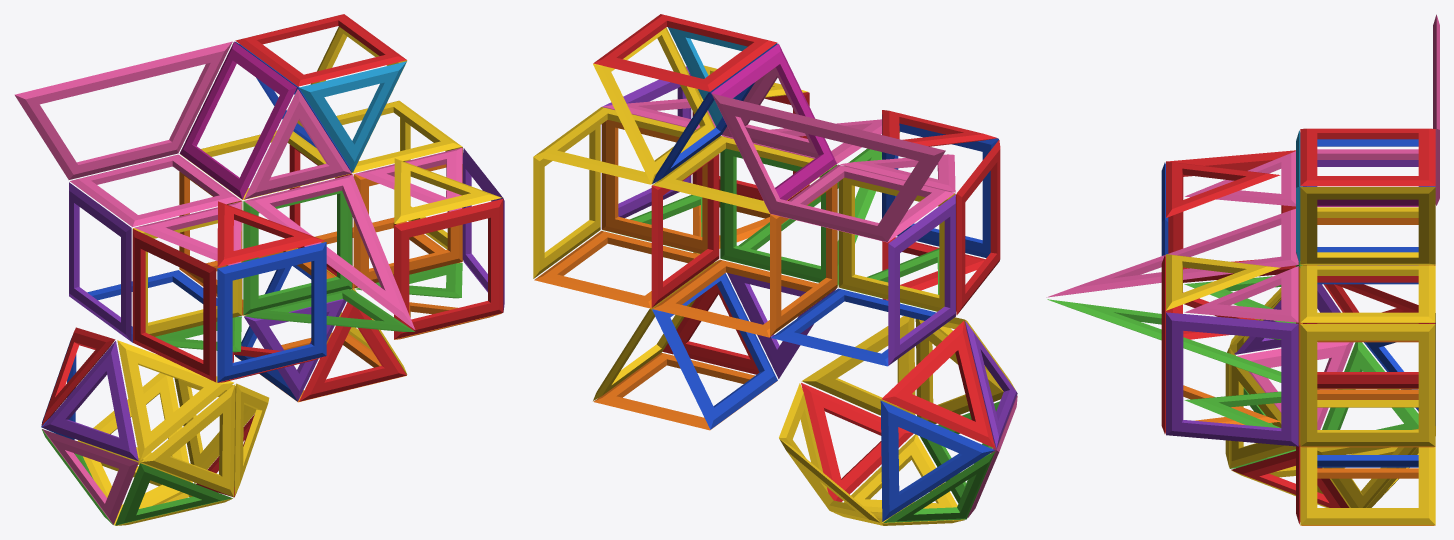
The model's file is tile_starship_frames.obj.
3 views of the same model, side by side, from view 1: azimuth 30°, elevation 25°; view 2: azimuth 150°, elevation 25°; view 3: azimuth 270°, elevation 25° (orthographic). The views are drawn at different scales.
Visible parts, largest first — view 1: outrigger_wing.wing_trapezoid, nose_pod.nose_pod_roof, tail_pod.tail_pod_roof, spire.spire_wing, nose_pod.nose_pod_end, outrigger_wing.wing_infill_wall, dome.dome_12, dome.dome_11, outrigger_wing.wing_prism_roof, dome.dome_16, outrigger_wing.wing_infill_roof, spine.nose_cube_front (+34 smaller); view 2: outrigger_wing.wing_trapezoid, dome.dome_04, dome.dome_07, spine.nose_cube_front, outrigger_wing.wing_prism_face, outrigger_dome.dome_prism_wall_nose, dome.dome_14, spine.nose_cube_roof, spine.tail_cube_roof, spine.centre_roof, outrigger_wing.wing_infill_wall, nose_pod.nose_pod_end (+38 smaller); view 3: tail_pod.tail_pod_end, spine.tail_cube_back, outrigger_dome.dome_prism_wall_tail, outrigger_wing.wing_prism_wall_tail, outrigger_wing.wing_prism_face, spire.spire_wing, spine.tail_cube_side_wing, spire.spire_dome, tail_pod.tail_pod_up_wing, nose_pod.nose_pod_down_wing, tail_pod.tail_pod_down_wing, spine.centre_bulkhead (+29 smaller).
Part boxes in pixels (left/top/right/bottom): outrigger_wing.wing_trapezoid: left=14, top=41, right=232, bottom=179; nose_pod.nose_pod_roof: left=217, top=242, right=326, bottom=382; tail_pod.tail_pod_roof: left=394, top=199, right=503, bottom=339; spire.spire_wing: left=244, top=174, right=415, bottom=329; nose_pod.nose_pod_end: left=132, top=229, right=216, bottom=382; outrigger_wing.wing_infill_wall: left=179, top=41, right=296, bottom=199; dome.dome_12: left=117, top=340, right=233, bottom=460; dome.dome_11: left=42, top=341, right=138, bottom=461; outrigger_wing.wing_prism_roof: left=299, top=61, right=406, bottom=171; dome.dome_16: left=141, top=384, right=235, bottom=497; outrigger_wing.wing_infill_roof: left=244, top=89, right=351, bottom=199; spine.nose_cube_front: left=69, top=182, right=131, bottom=341; outrigger_wing.wing_trapezoid: left=712, top=93, right=945, bottom=241; dome.dome_04: left=880, top=400, right=994, bottom=521; dome.dome_07: left=882, top=321, right=995, bottom=448; spine.nose_cube_front: left=888, top=194, right=955, bottom=365; outrigger_wing.wing_prism_face: left=593, top=14, right=777, bottom=91; outrigger_dome.dome_prism_wall_nose: left=652, top=273, right=777, bottom=429; dome.dome_14: left=801, top=383, right=913, bottom=501; spine.nose_cube_roof: left=838, top=177, right=955, bottom=311; spine.tail_cube_roof: left=602, top=120, right=707, bottom=253; spine.centre_roof: left=720, top=148, right=836, bottom=282; outrigger_wing.wing_infill_wall: left=711, top=43, right=836, bottom=200; nose_pod.nose_pod_end: left=956, top=140, right=1000, bottom=315; tail_pod.tail_pod_end: left=1166, top=312, right=1298, bottom=446; spine.tail_cube_back: left=1300, top=324, right=1435, bottom=446; outrigger_dome.dome_prism_wall_tail: left=1300, top=400, right=1435, bottom=525; outrigger_wing.wing_prism_wall_tail: left=1300, top=187, right=1435, bottom=264; outrigger_wing.wing_prism_face: left=1300, top=128, right=1435, bottom=186; spire.spire_wing: left=1046, top=209, right=1298, bottom=297; spine.tail_cube_side_wing: left=1300, top=265, right=1435, bottom=322; spire.spire_dome: left=1047, top=299, right=1281, bottom=382; tail_pod.tail_pod_up_wing: left=1184, top=266, right=1298, bottom=322; nose_pod.nose_pod_down_wing: left=1166, top=161, right=1280, bottom=217; tail_pod.tail_pod_down_wing: left=1166, top=254, right=1280, bottom=310; spine.centre_bulkhead: left=1303, top=276, right=1435, bottom=388.
Bounding box in the file's own units: 3.6 × 3.49 × 2.87.
